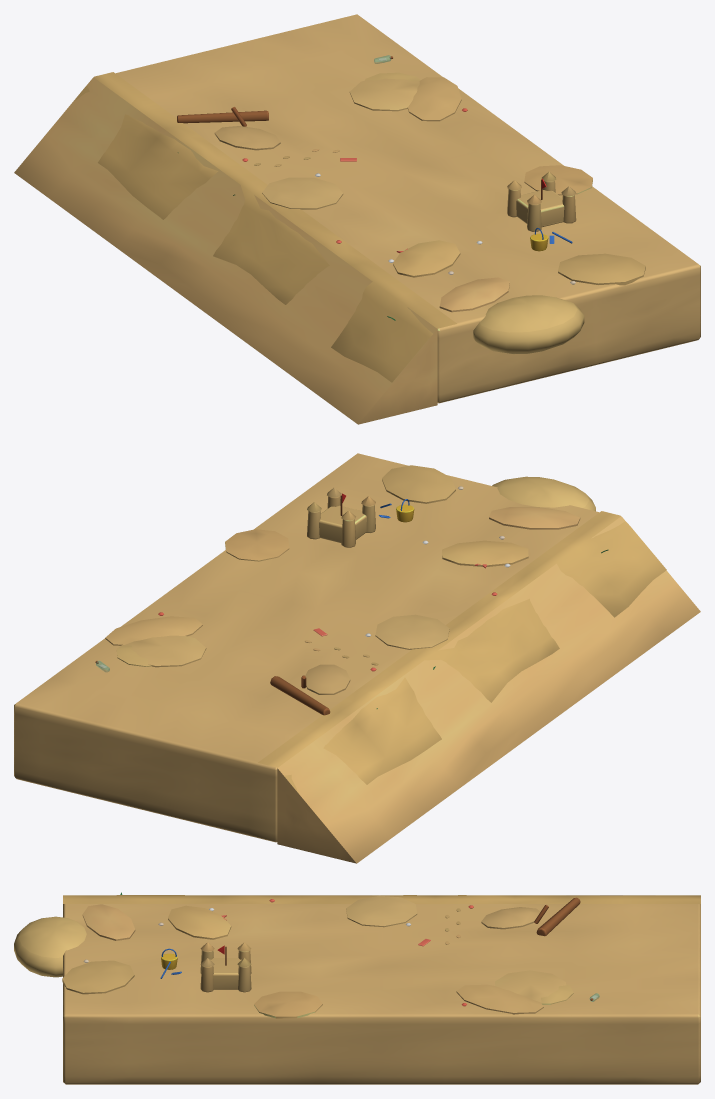
File: SM_Tank_Island.fbx
The picture shows the model from 3 angles, top to bottom: view 1: azimuth 30°, elevation 25°; view 2: azimuth 150°, elevation 25°; view 3: azimuth 270°, elevation 25°; orthographic projection. The views are drawn at different scales.
Parts seen in each view (by area): view 1: SM_Tank_Island; view 2: SM_Tank_Island; view 3: SM_Tank_Island.
Boxes of the visible parts, x1,y1,x2,y2 form: SM_Tank_Island: (14, 14, 700, 424); SM_Tank_Island: (14, 453, 700, 863); SM_Tank_Island: (14, 892, 700, 1084).
Size of the model in its own units: 528 by 167 by 969.
